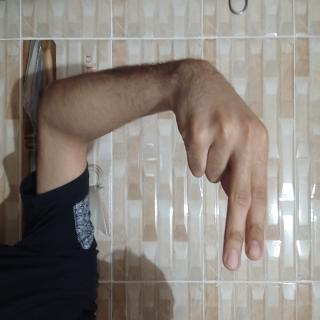AYN: (42, 54, 208, 198)
